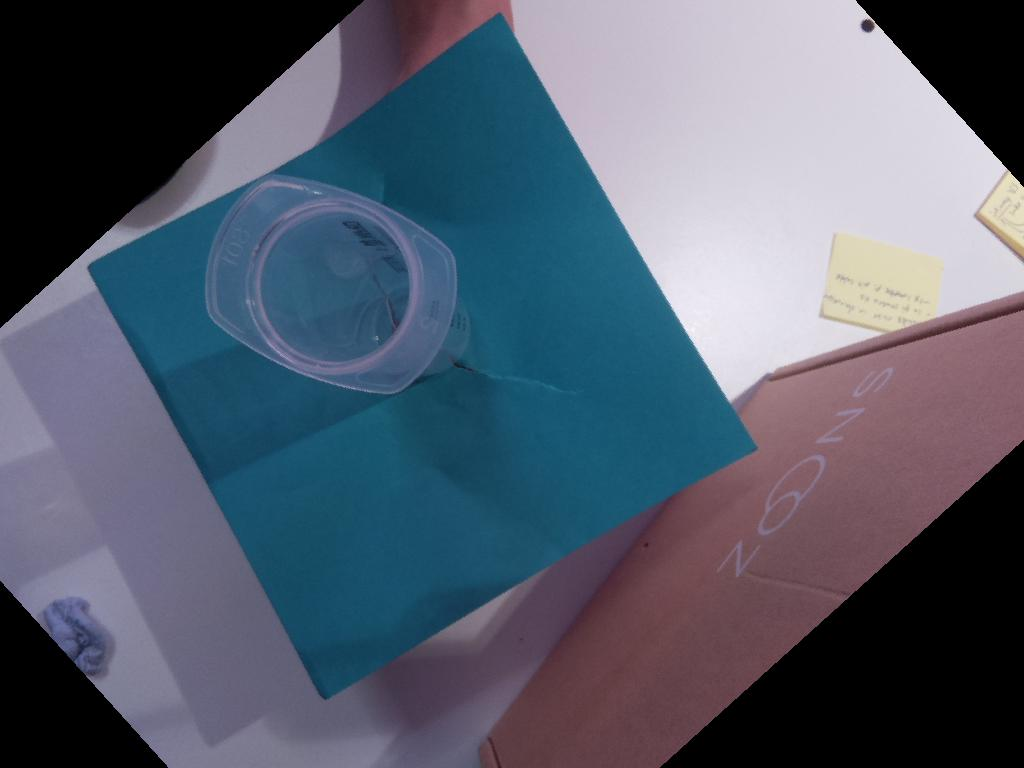clean: (203, 171, 461, 399)
